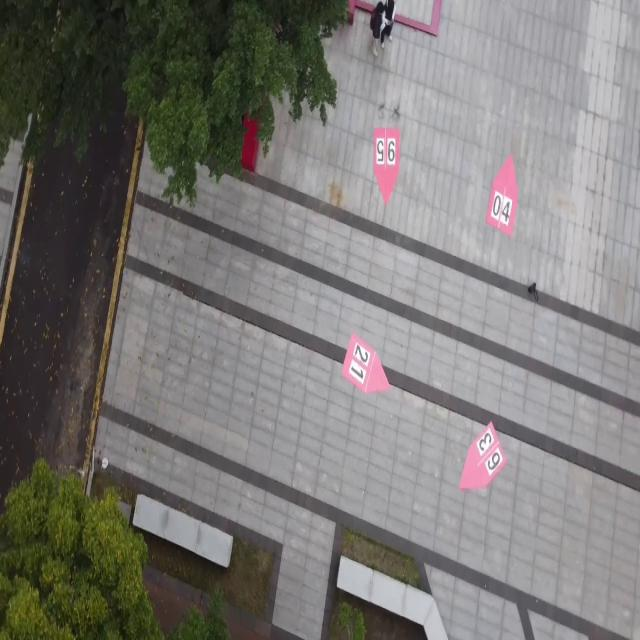-sign-: (339, 319, 394, 400), (459, 422, 507, 492), (486, 154, 519, 237), (373, 125, 401, 205)
